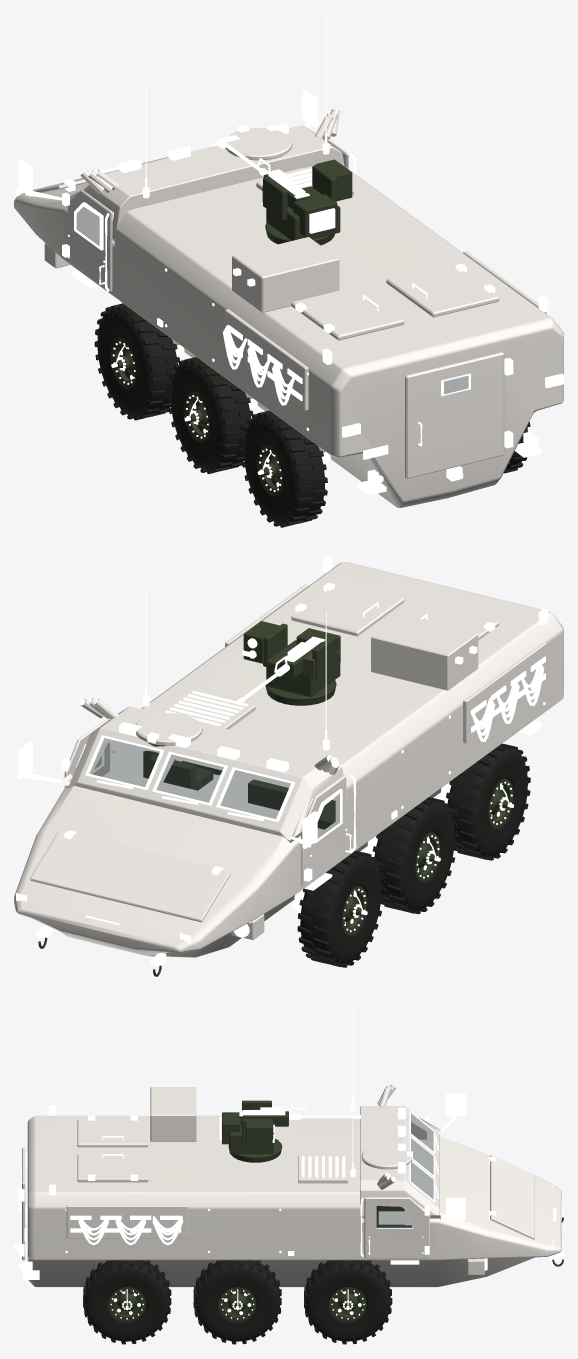
The model's file is patria_6x6.glb.
3 views of the same model, one above another, from view 1: azimuth 30°, elevation 25°; view 2: azimuth 150°, elevation 25°; view 3: azimuth 270°, elevation 25° (orthographic). The views are drawn at different scales.
Parts seen in each view (by area): view 1: Body_LOD0, Door_Rear_LOD0, Wheel_L3_LOD0, Wheel_L1_LOD0, Wheel_L2_LOD0, RWS_LOD0, Door_FL_LOD0, Hatch_R_LOD0, Hatch_L_LOD0, RWS_Gun_LOD0, Hatch_Cab_LOD0; view 2: Body_LOD0, Wheel_L1_LOD0, Wheel_L3_LOD0, Wheel_L2_LOD0, RWS_LOD0, Hatch_R_LOD0, Door_FL_LOD0, RWS_Gun_LOD0, Hatch_Cab_LOD0, Hatch_L_LOD0, Door_FR_LOD0; view 3: Body_LOD0, Wheel_R3_LOD0, Wheel_R2_LOD0, Wheel_R1_LOD0, Door_FR_LOD0, Hatch_L_LOD0, Hatch_R_LOD0, RWS_LOD0, RWS_Gun_LOD0, Hatch_Cab_LOD0, Door_Rear_LOD0.
Boxes of the visible parts, x1,y1,x2,y2 form: Body_LOD0: (14,14,563,508); Door_Rear_LOD0: (405,352,513,478); Wheel_L3_LOD0: (241,410,327,527); Wheel_L1_LOD0: (94,303,179,420); Wheel_L2_LOD0: (168,357,253,473); RWS_LOD0: (263,165,340,245); Door_FL_LOD0: (62,190,112,291); Hatch_R_LOD0: (386,263,499,317); Hatch_L_LOD0: (291,286,404,340); RWS_Gun_LOD0: (220,140,352,209); Hatch_Cab_LOD0: (225,124,292,160); Body_LOD0: (14,556,563,976); Wheel_L1_LOD0: (297,851,384,967); Wheel_L3_LOD0: (446,743,530,860); Wheel_L2_LOD0: (372,797,457,913); RWS_LOD0: (263,623,340,705); Hatch_R_LOD0: (291,582,404,636); Door_FL_LOD0: (301,774,356,886); RWS_Gun_LOD0: (237,621,325,704); Hatch_Cab_LOD0: (135,713,202,745); Hatch_L_LOD0: (416,605,499,640); Door_FR_LOD0: (62,717,109,787); Body_LOD0: (14,1005,563,1287); Wheel_R3_LOD0: (83,1260,171,1344); Wheel_R2_LOD0: (193,1260,281,1344); Wheel_R1_LOD0: (304,1260,392,1344); Door_FR_LOD0: (360,1197,429,1258); Hatch_L_LOD0: (77,1115,148,1147); Hatch_R_LOD0: (77,1154,148,1182); RWS_LOD0: (219,1100,282,1162); RWS_Gun_LOD0: (239,1107,360,1146); Hatch_Cab_LOD0: (361,1145,412,1169); Door_Rear_LOD0: (17,1147,25,1260).
Size of what is drawn, in the model's own units: 3.53 by 4.08 by 7.72.
